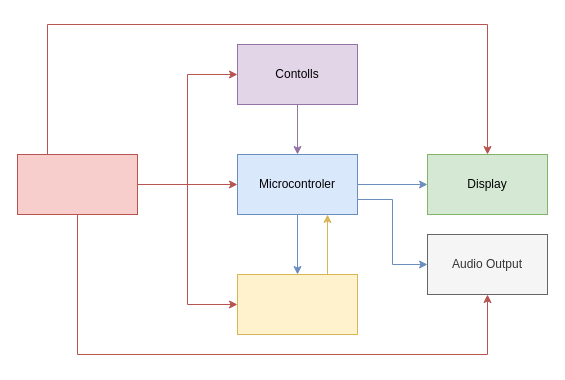
This 565x380 diagram has some shape labels left out. The box of each missing label's shape, as (x1, y1, x2, y2) in pixels:
Power: (16, 154, 138, 214)
SD Card: (236, 274, 358, 334)
